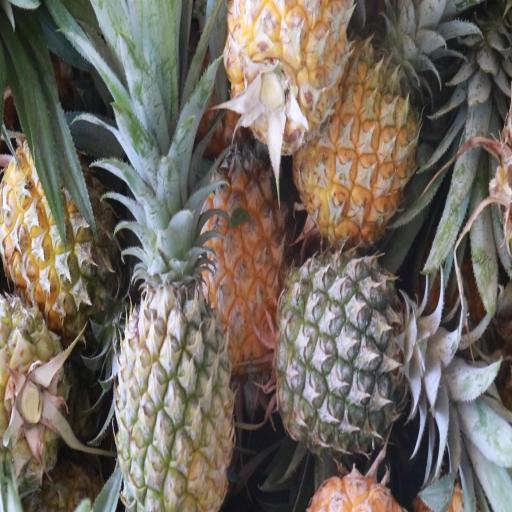------------------------------: (2, 136, 116, 322), (0, 287, 70, 481)
Pineapple - v8 v1: (295, 50, 420, 250), (201, 143, 289, 370), (223, 0, 348, 151)
